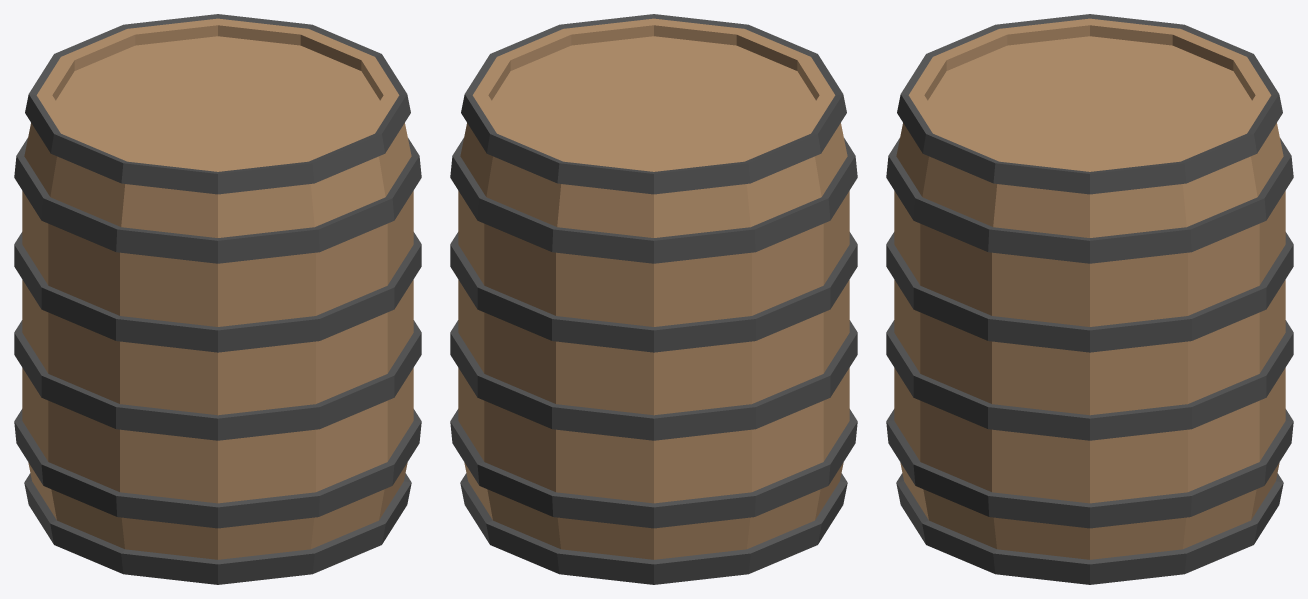
The model's file is barrel-b.glb.
3 views of the same model, side by side, from view 1: azimuth 30°, elevation 25°; view 2: azimuth 150°, elevation 25°; view 3: azimuth 270°, elevation 25° (orthographic).
Visible parts, largest first — view 1: Barrel B (×2); view 2: Barrel B (×2); view 3: Barrel B (×2).
Part boxes in pixels (x1=…): Barrel B (×2): x1=14, y1=14, x2=421, y2=584; Barrel B (×2): x1=450, y1=14, x2=857, y2=584; Barrel B (×2): x1=886, y1=14, x2=1293, y2=584.
Size of the model in its own units: 0.8988 by 1 by 0.8988.
